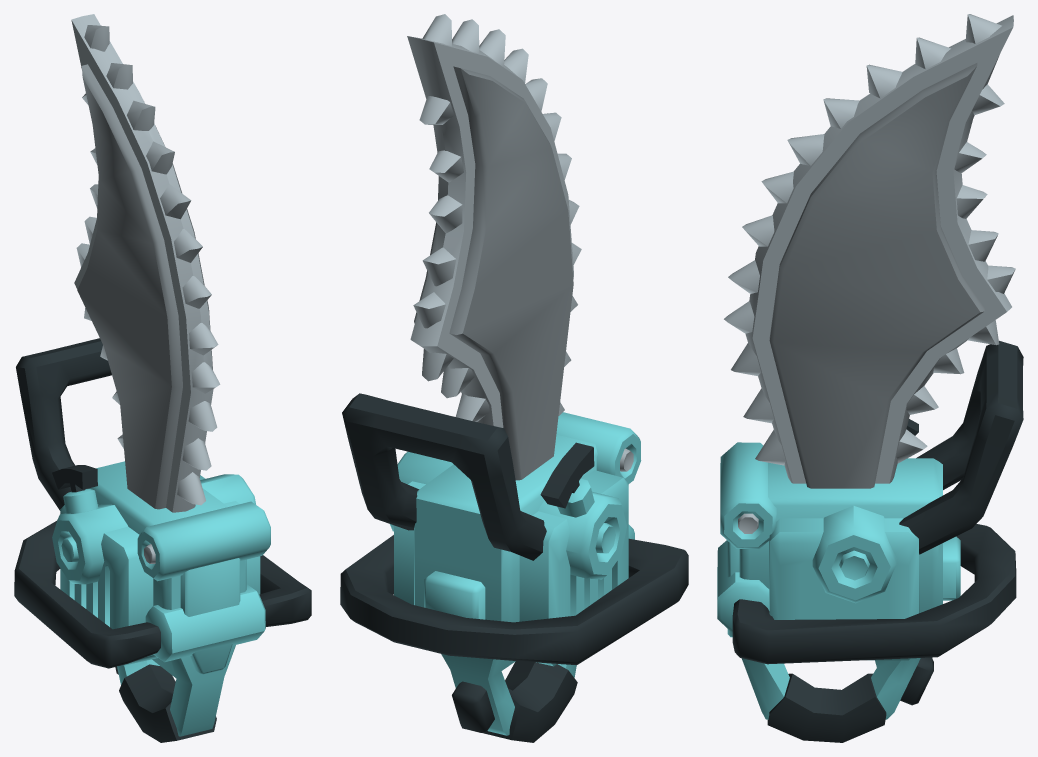
The model's file is chainsword_teal.gltf.glb.
The picture shows the model from 3 angles, left to right: view 1: azimuth 30°, elevation 25°; view 2: azimuth 150°, elevation 25°; view 3: azimuth 270°, elevation 25°; orthographic projection. The views are drawn at different scales.
Parts seen in each view (by area): view 1: chainsword_teal; view 2: chainsword_teal; view 3: chainsword_teal.
Part boxes in pixels (bbox=[...]): chainsword_teal: bbox=[14, 14, 311, 742]; chainsword_teal: bbox=[340, 14, 688, 742]; chainsword_teal: bbox=[717, 14, 1023, 742].
Size of the model in its own units: 0.517 by 1.5 by 0.5804.
